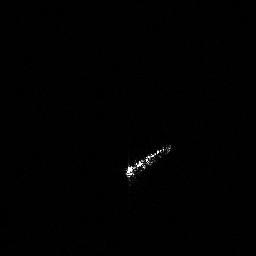ship: (120, 139, 175, 182)
